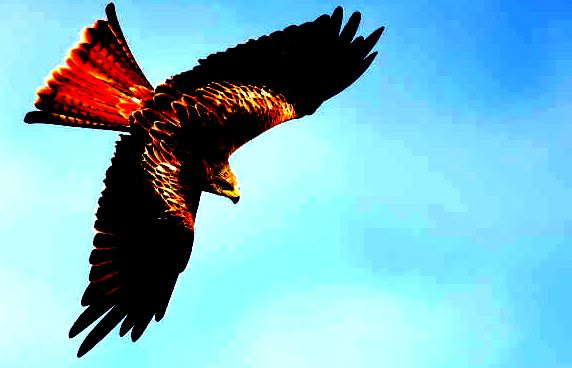Bird: (23, 0, 385, 361)
